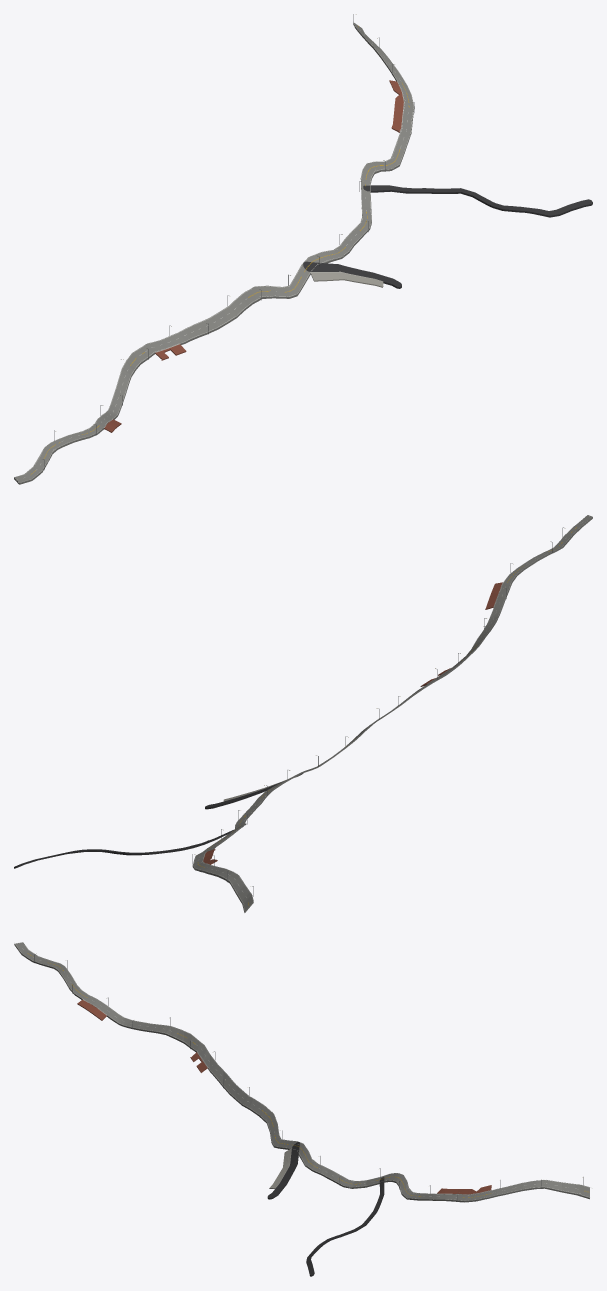
The picture shows the model from 3 angles, top to bottom: view 1: azimuth 30°, elevation 25°; view 2: azimuth 210°, elevation 25°; view 3: azimuth 270°, elevation 25°; orthographic projection. The views are drawn at different scales.
Size of the model in its own units: 550 by 68.04 by 444.
